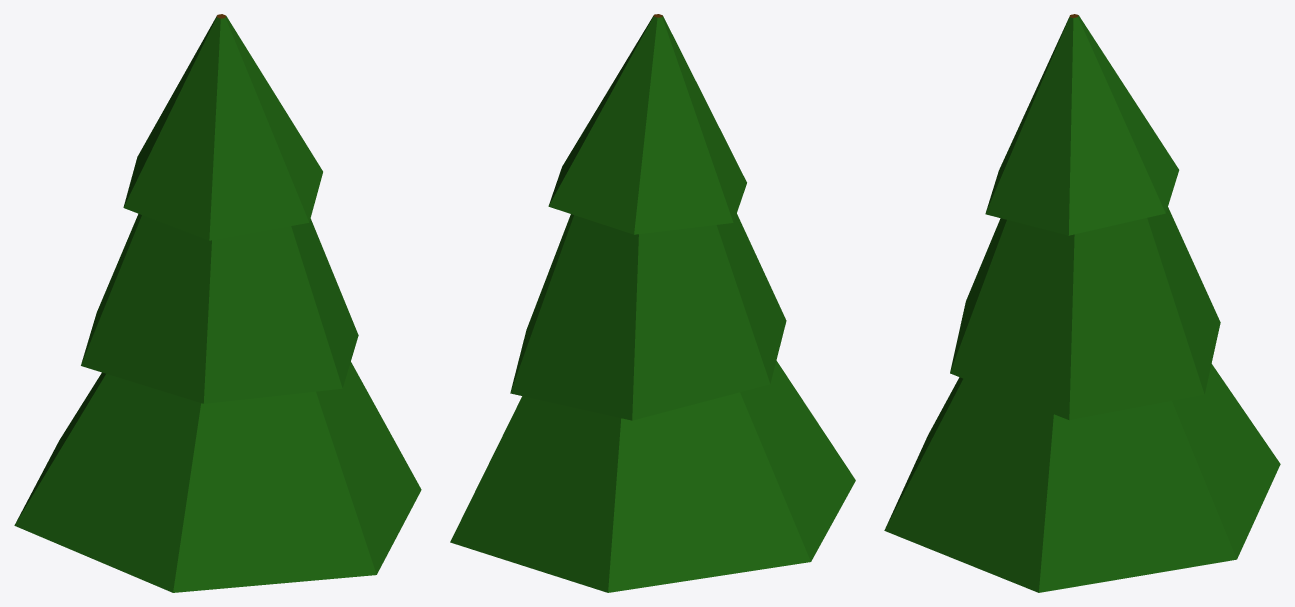
The model's file is pine2.glb.
The picture shows the model from 3 angles, left to right: view 1: azimuth 30°, elevation 25°; view 2: azimuth 150°, elevation 25°; view 3: azimuth 270°, elevation 25°; orthographic projection. The views are drawn at different scales.
Visible parts, largest first — view 1: prefab; view 2: prefab; view 3: prefab.
Part boxes in pixels (<box>): prefab: <box>14,14,421,592</box>; prefab: <box>450,14,855,592</box>; prefab: <box>884,14,1280,592</box>.
Bounding box in the file's own units: 5.14 × 7 × 5.01.
